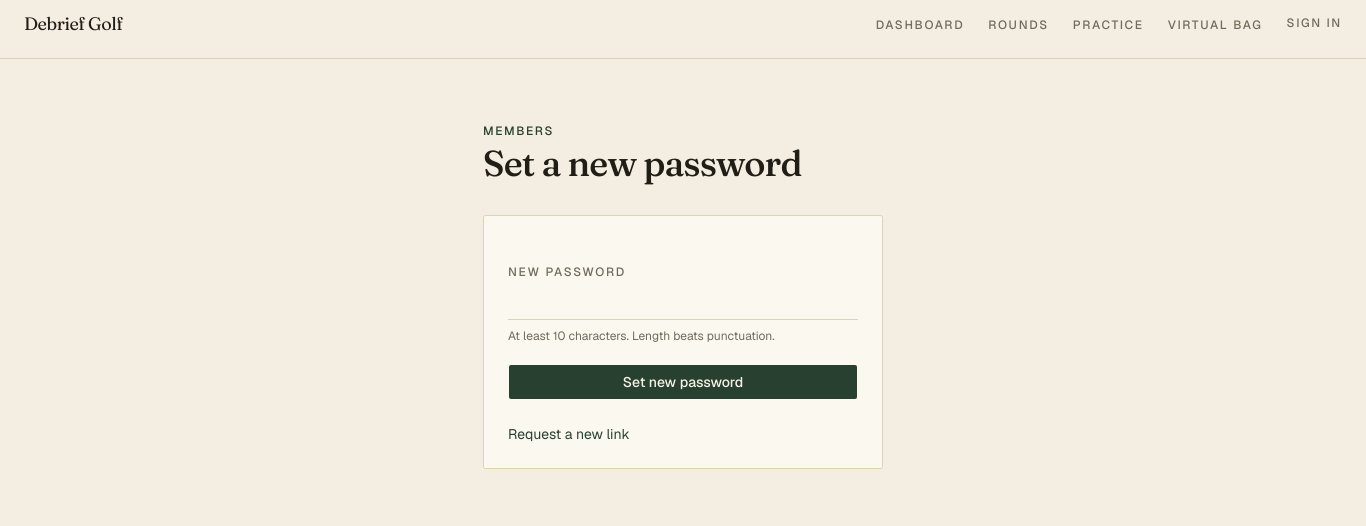
Test: ResetPasswordPage › surfaces a generic message on an unexpected failure
Type "a-brand-new-password" into the password field labelled "New password" at (683, 302), box [508, 284, 858, 320]
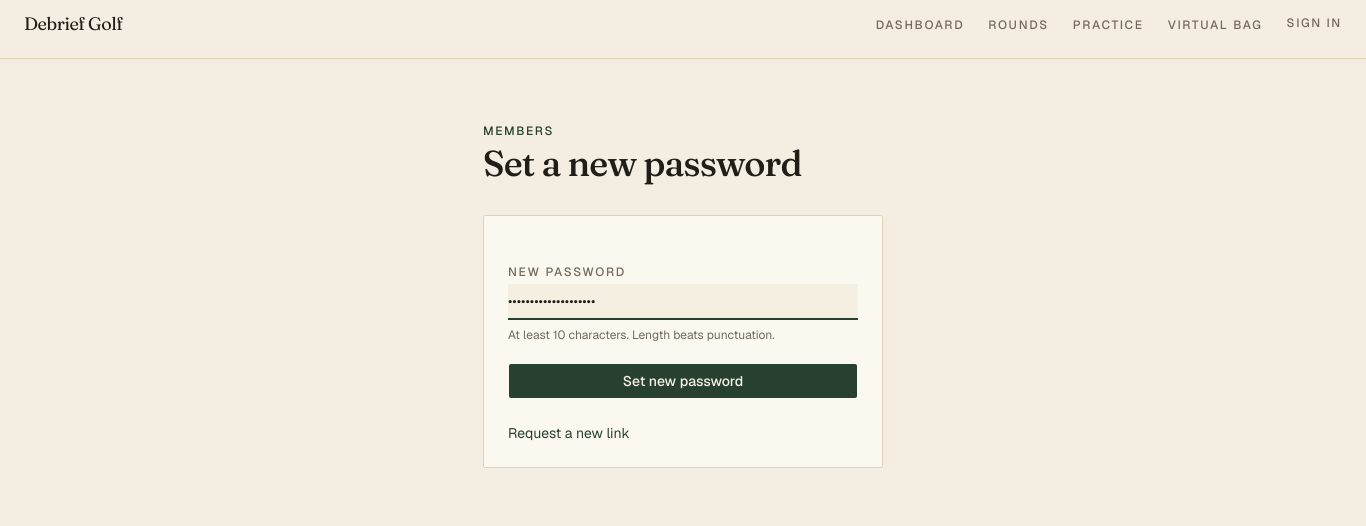
Click the button "Set new password" at (683, 381), box [508, 363, 858, 399]
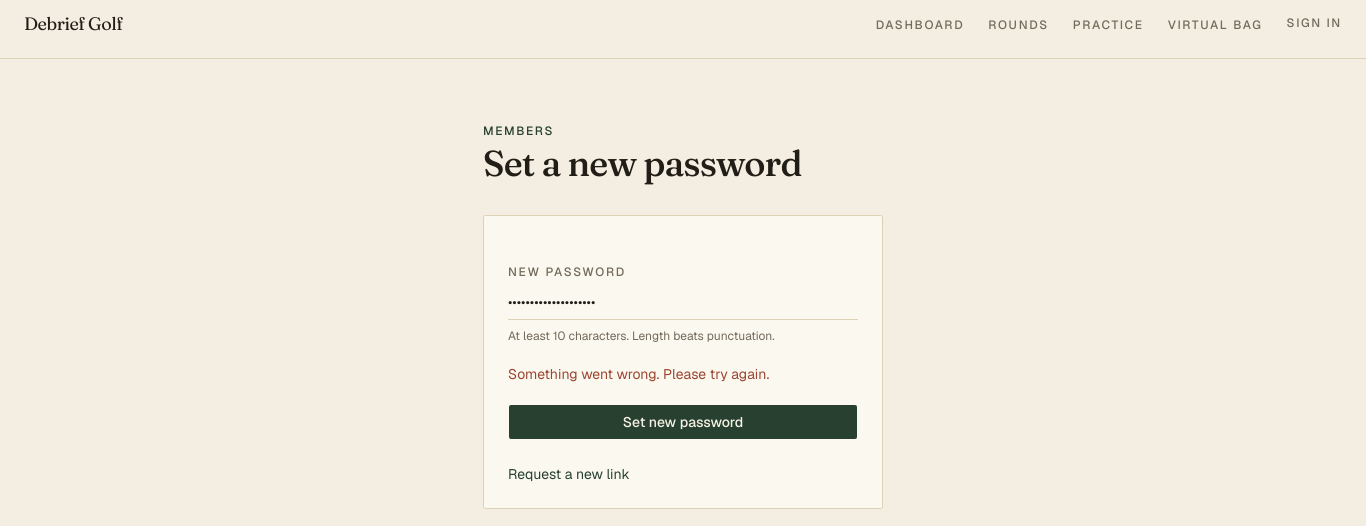
Expected: the message shows "Something went wrong", [508, 365, 769, 383]
